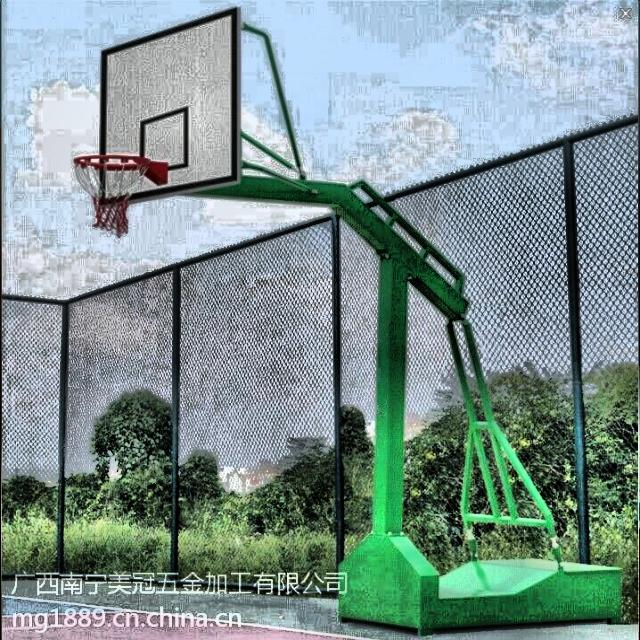rim: (75, 152, 146, 234)
